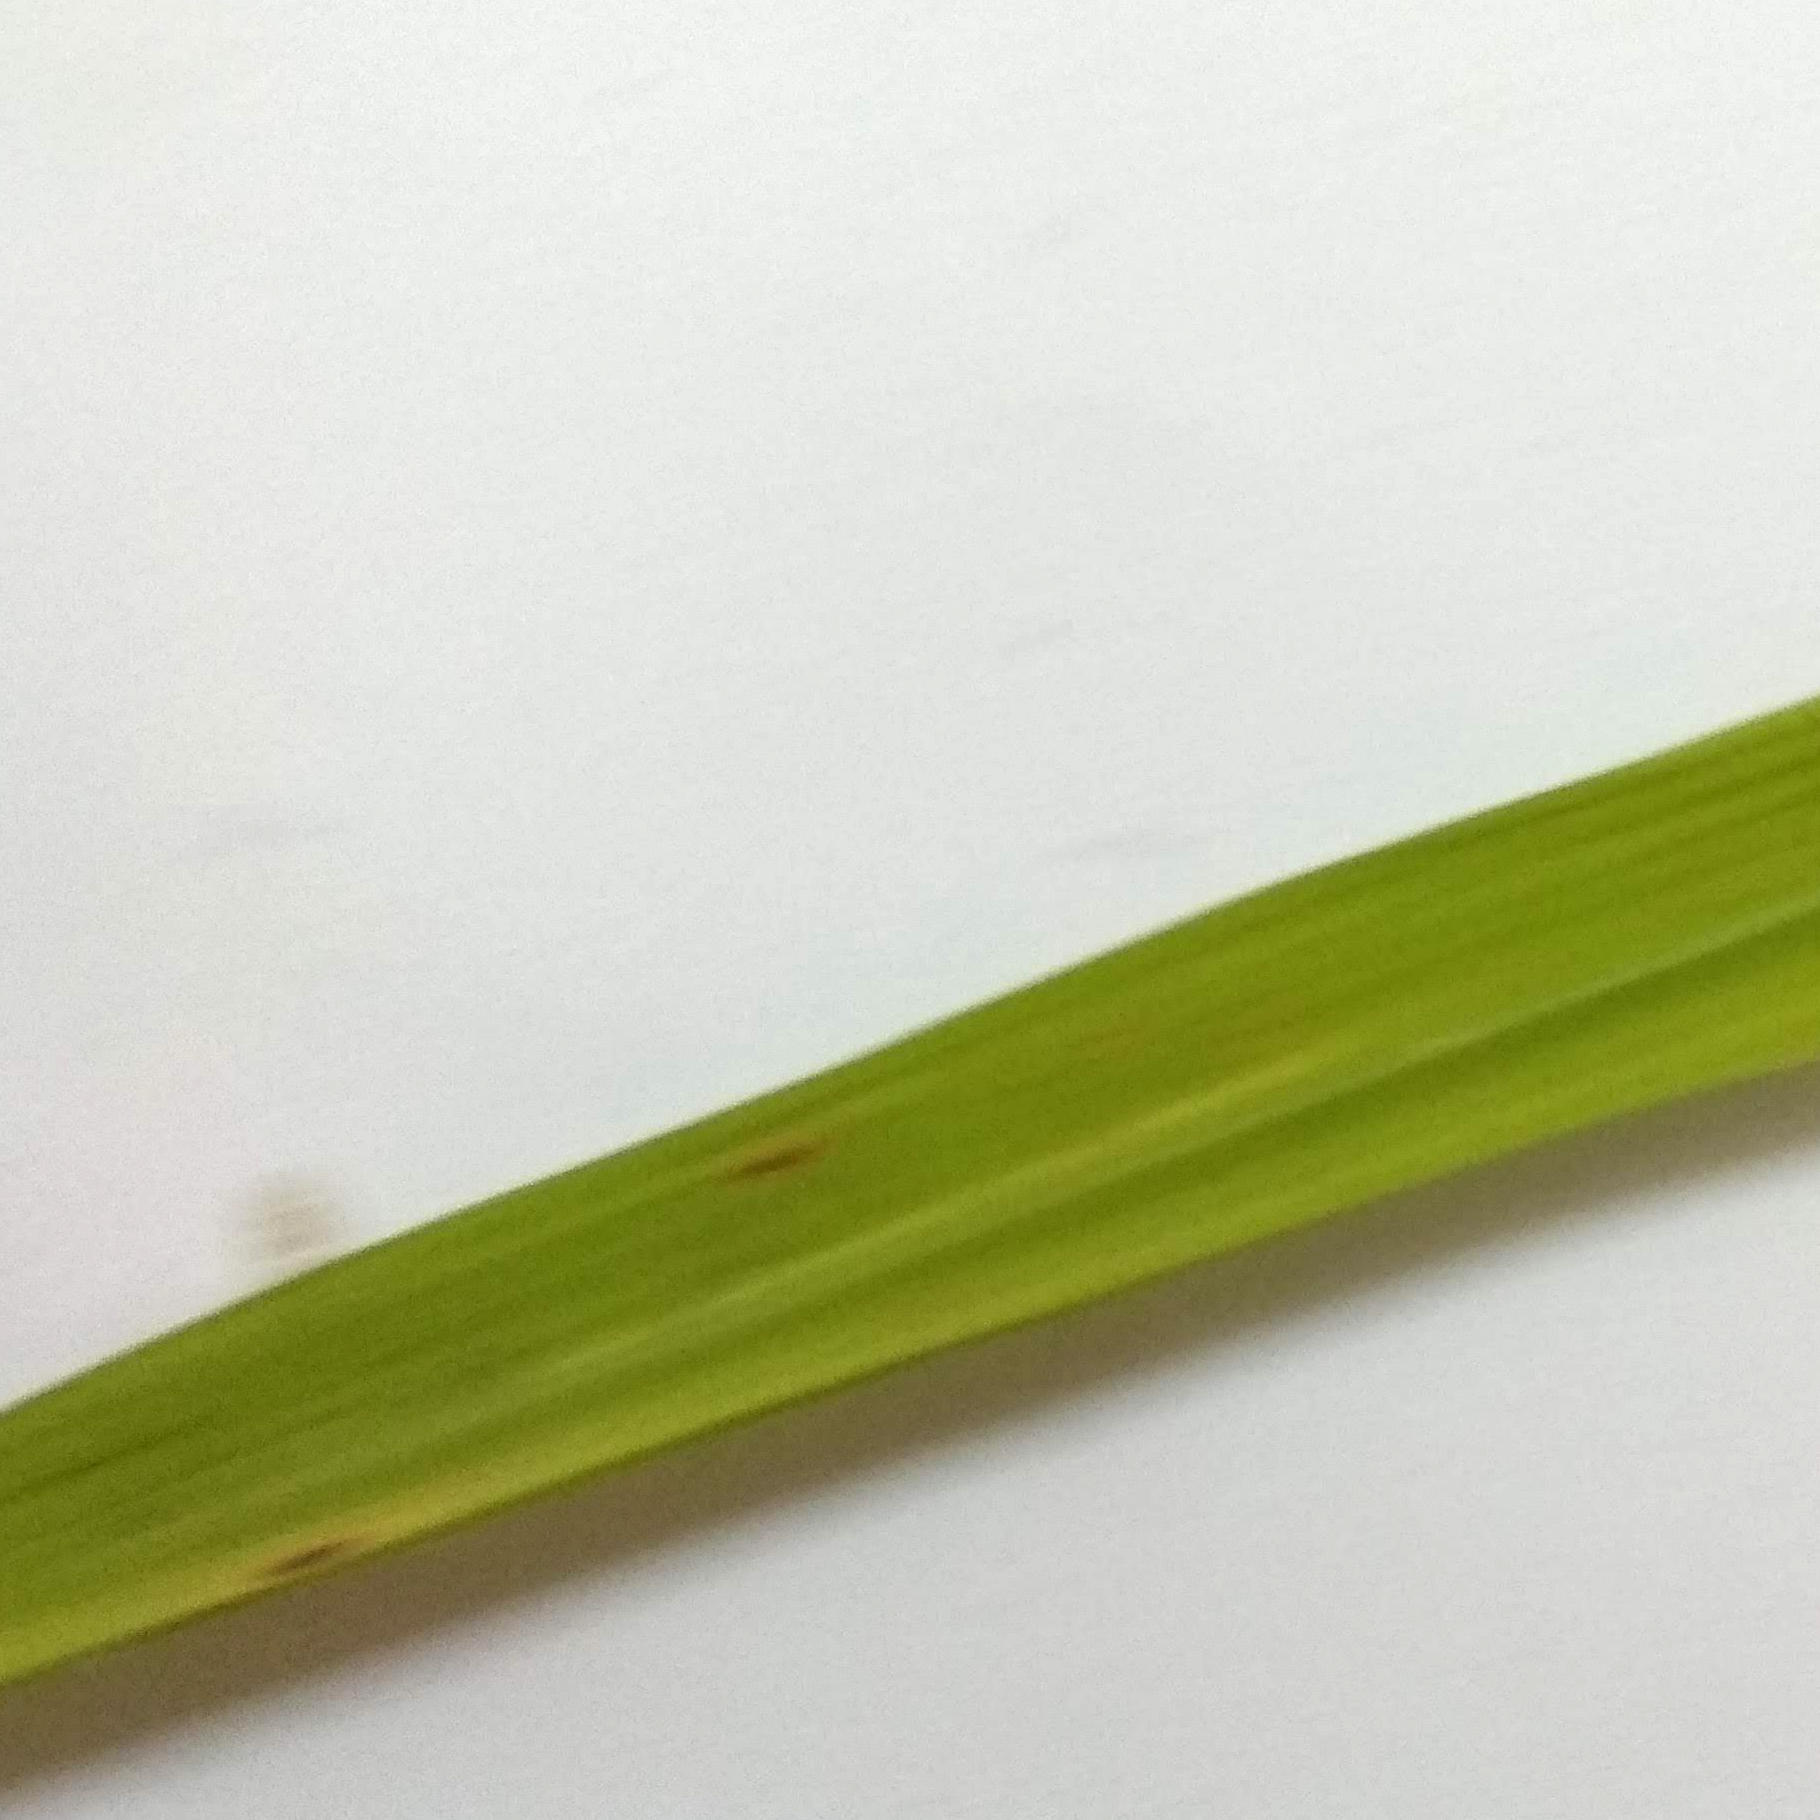brown spot: (712, 1138, 832, 1190), (253, 1535, 362, 1588)
